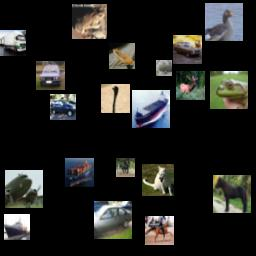airplane: (5, 170, 43, 208)
automobile: (94, 201, 132, 239), (173, 35, 202, 64), (36, 61, 65, 90), (50, 94, 76, 120)
bird: (205, 3, 243, 41), (101, 84, 130, 113)
cat: (142, 164, 174, 196)
deer: (176, 71, 205, 100)
frog: (210, 71, 248, 109), (72, 4, 107, 39), (109, 43, 135, 69), (156, 60, 172, 76)
ship: (132, 90, 170, 128), (65, 158, 94, 187), (4, 214, 30, 240)
truck: (0, 30, 26, 56)
